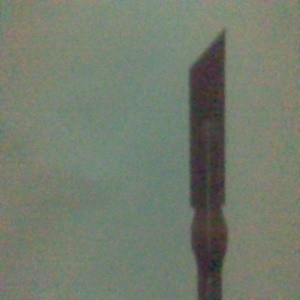cutter: (187, 26, 229, 300)
